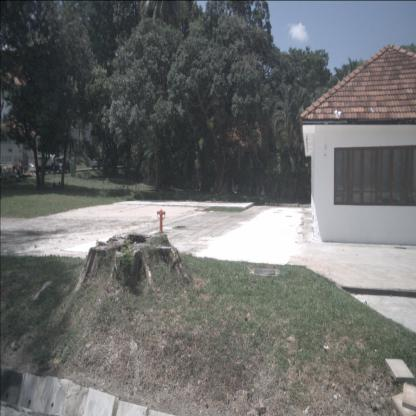human-pedestrian-adult: (20, 160, 22, 176), (18, 160, 20, 176)
vehicle-car: (92, 159, 104, 169)
vehicle-truck: (37, 154, 64, 174)
